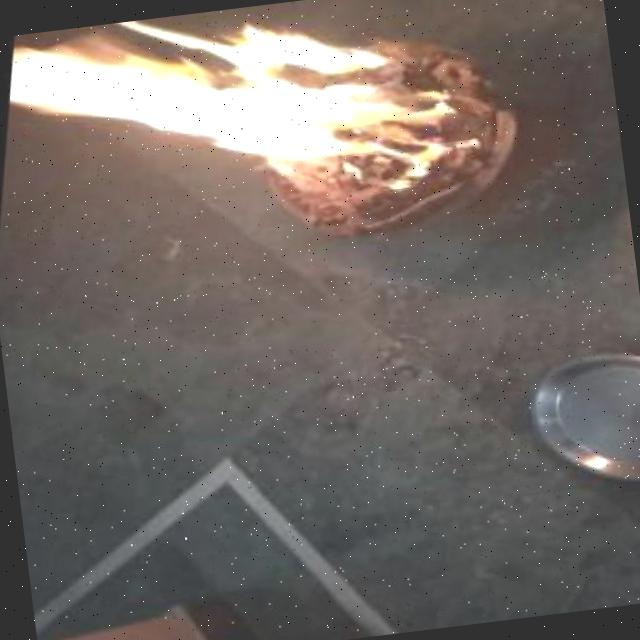fire: (9, 0, 418, 213)
